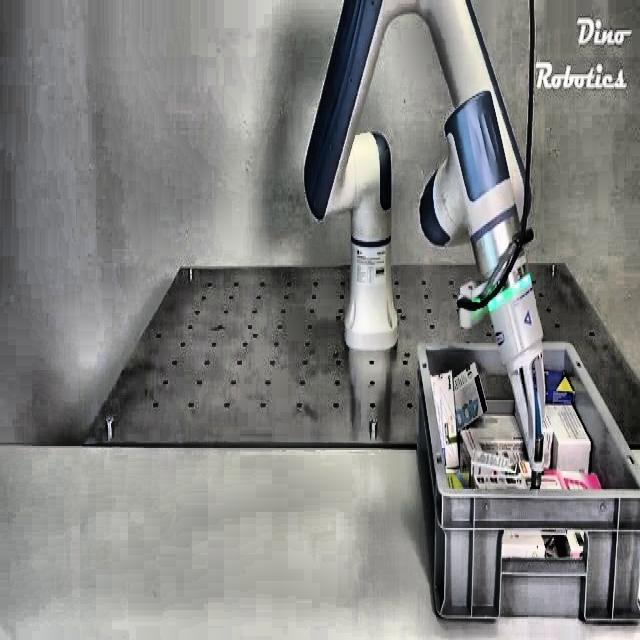robot: (303, 0, 549, 487)
